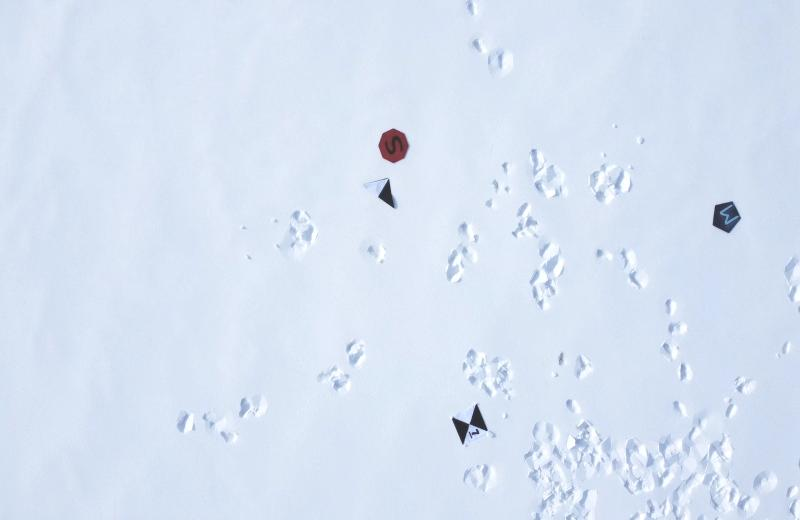Octagon: (375, 126, 412, 166)
Pentagon: (708, 198, 743, 238)
